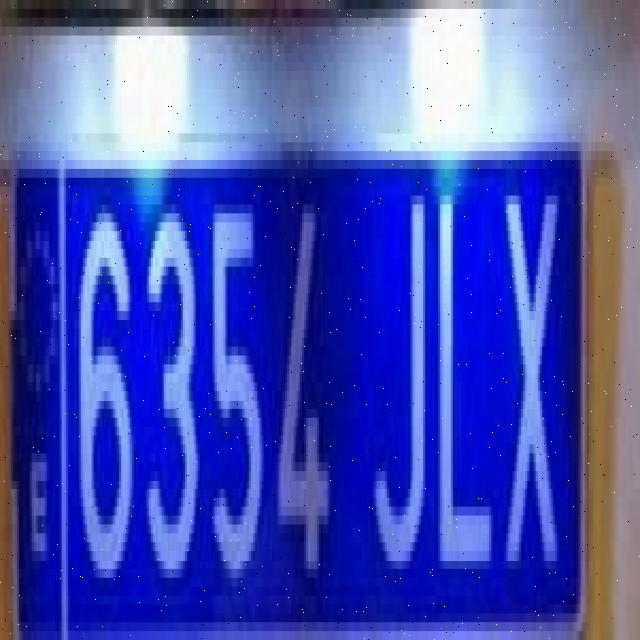LicensePlate: (5, 95, 601, 640)
